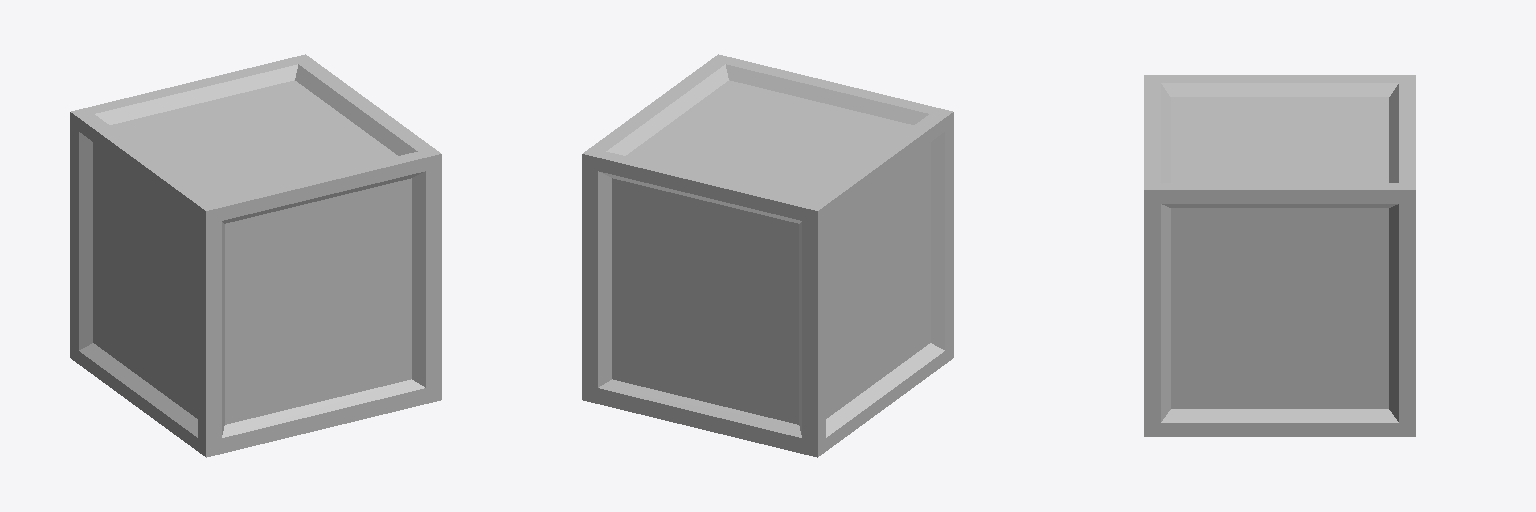
The model's file is Prop_PowerUpBox2.obj.
The picture shows the model from 3 angles: view 1: azimuth 30°, elevation 25°; view 2: azimuth 150°, elevation 25°; view 3: azimuth 270°, elevation 25°; orthographic projection.
Visible parts, largest first — view 1: PowerUpBoxTest2; view 2: PowerUpBoxTest2; view 3: PowerUpBoxTest2.
Part boxes in pixels (bbox=[...]): PowerUpBoxTest2: bbox=[70, 54, 441, 457]; PowerUpBoxTest2: bbox=[582, 54, 953, 457]; PowerUpBoxTest2: bbox=[1144, 75, 1415, 436].
Bounding box in the file's own units: 0.7091 × 0.7091 × 0.7091.